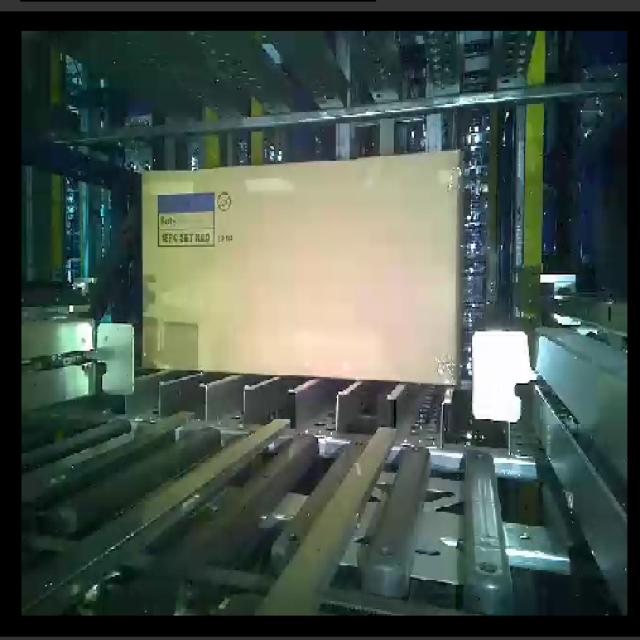box: (140, 144, 461, 388)
